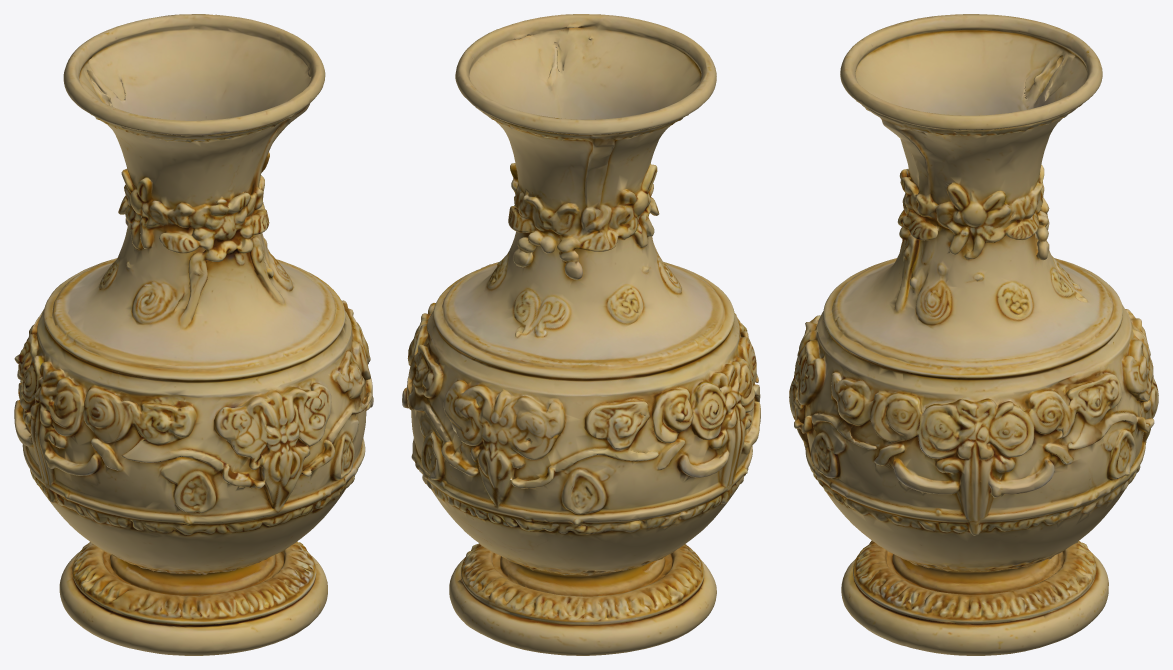
The model's file is prop-vase-gold.glb.
3 renders of one model, left to right at view 1: azimuth 30°, elevation 25°; view 2: azimuth 150°, elevation 25°; view 3: azimuth 270°, elevation 25°, orthographic.
Visible parts, largest first — view 1: tripo_node_bced2671-8a69-4db2-bd07-0f3e97078413; view 2: tripo_node_bced2671-8a69-4db2-bd07-0f3e97078413; view 3: tripo_node_bced2671-8a69-4db2-bd07-0f3e97078413.
Part boxes in pixels (x1,y1,x2,y2): tripo_node_bced2671-8a69-4db2-bd07-0f3e97078413: (14, 14, 373, 655); tripo_node_bced2671-8a69-4db2-bd07-0f3e97078413: (402, 14, 760, 655); tripo_node_bced2671-8a69-4db2-bd07-0f3e97078413: (789, 14, 1158, 655).
Size of the model in its own units: 0.8022 by 1.3 by 0.8092.
1 material, 1 textured.
